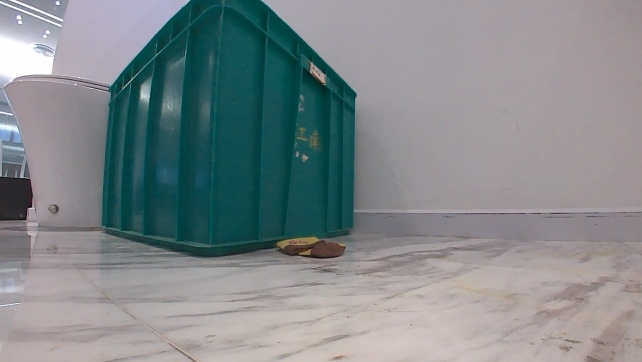socks: (275, 234, 346, 259)
toilet: (2, 71, 113, 230)
